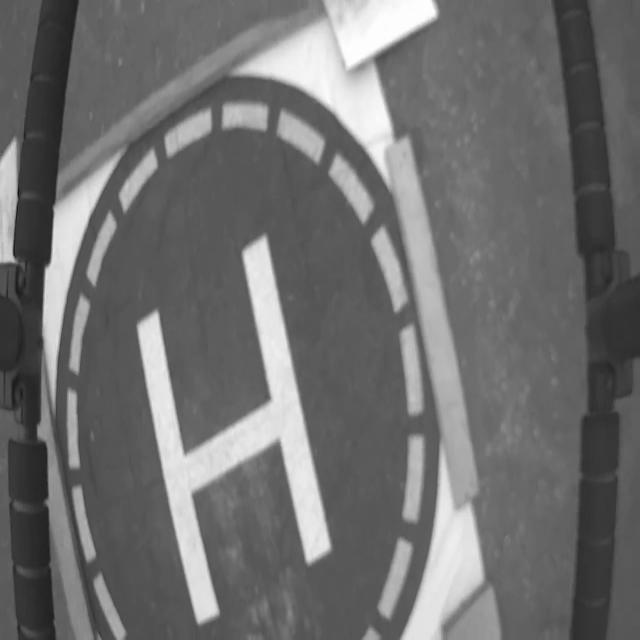Helipad: (136, 234, 332, 626)
